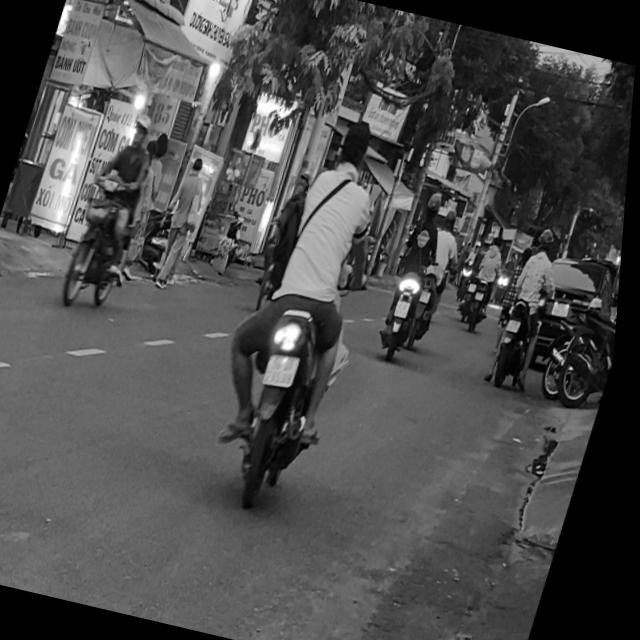helmet: (129, 110, 156, 148), (426, 190, 446, 218), (539, 225, 559, 253)
licenseplate: (192, 102, 420, 517), (54, 102, 178, 320), (486, 221, 577, 393), (374, 185, 459, 362)
motorcyclist: (334, 116, 379, 174)
nohelmet: (267, 351, 305, 388), (399, 299, 415, 317), (510, 318, 525, 332)
